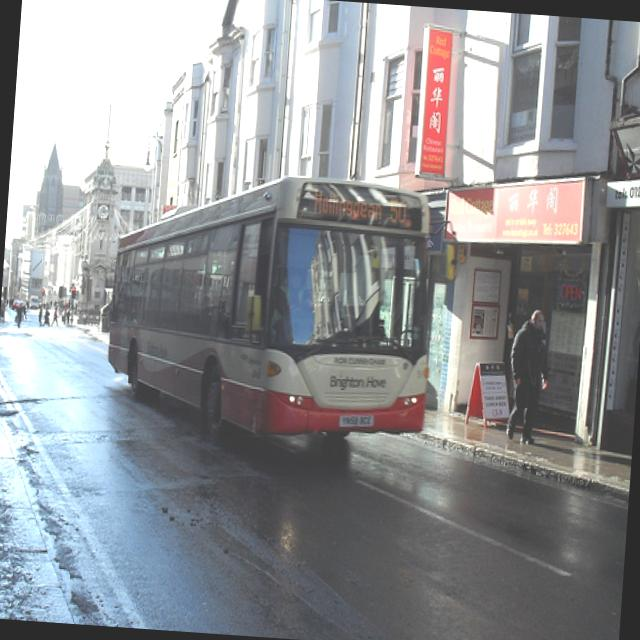Vehicle: (98, 169, 440, 445)
